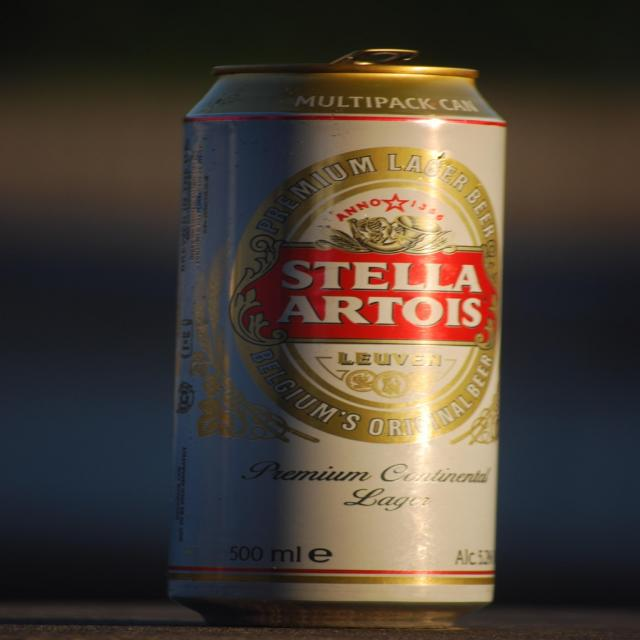stellaartois: (226, 148, 504, 446)
